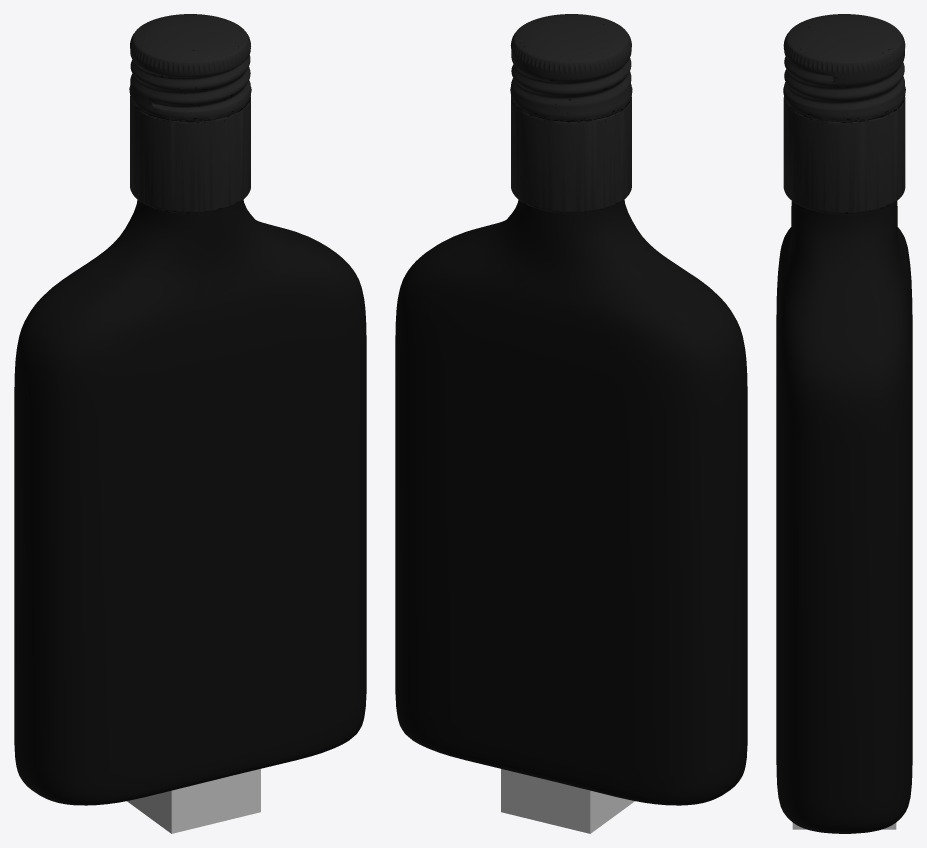
The model's file is bottle_750ml.obj.
3 views of the same model, side by side, from view 1: azimuth 30°, elevation 25°; view 2: azimuth 150°, elevation 25°; view 3: azimuth 270°, elevation 25° (orthographic).
Parts seen in each view (by area): view 1: whiskey_bottle_15, Cube; view 2: whiskey_bottle_15, Cube; view 3: whiskey_bottle_15.
Part boxes in pixels (bbox=[...]): whiskey_bottle_15: bbox=[14, 14, 366, 805]; Cube: bbox=[127, 769, 260, 833]; whiskey_bottle_15: bbox=[395, 14, 747, 805]; Cube: bbox=[501, 769, 634, 833]; whiskey_bottle_15: bbox=[776, 14, 912, 833].
Size of the model in its own units: 7.39 by 16.5 by 2.63.
